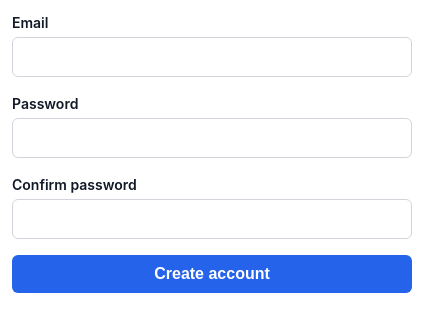
Test: RegistrationForm › shows error when passwords do not match
Type "new@example.com" into the field labelled "Email".
click(212, 57); type("new@example.com")  # box [12,37,412,77]
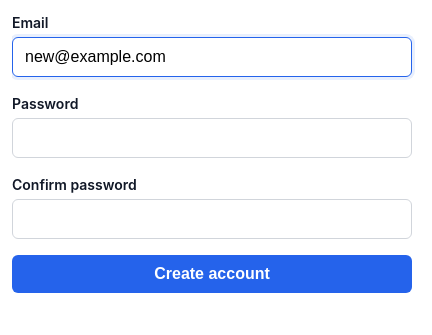
Type "password123" into the password field labelled "Password".
click(212, 138); type("password123")  # box [12,118,412,158]
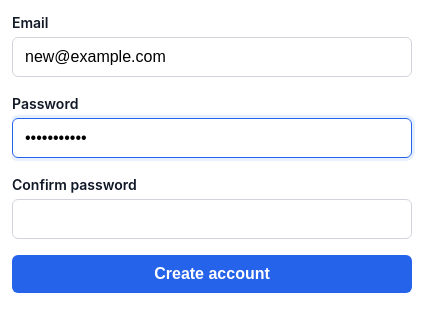
Type "different456" into the password field labelled "Confirm password".
click(212, 219); type("different456")  # box [12,199,412,239]
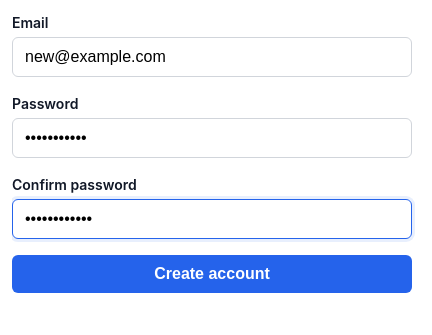
Click the button "Create account".
click(212, 274)  # box [12,255,412,293]
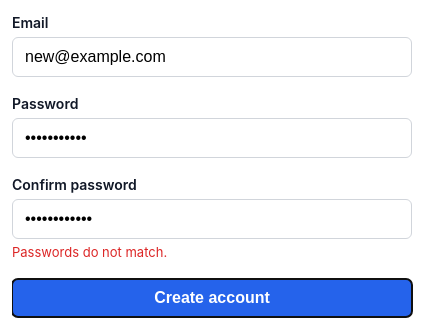
Expected: the text "Passwords do not match." is shown, [12,244,167,260]
